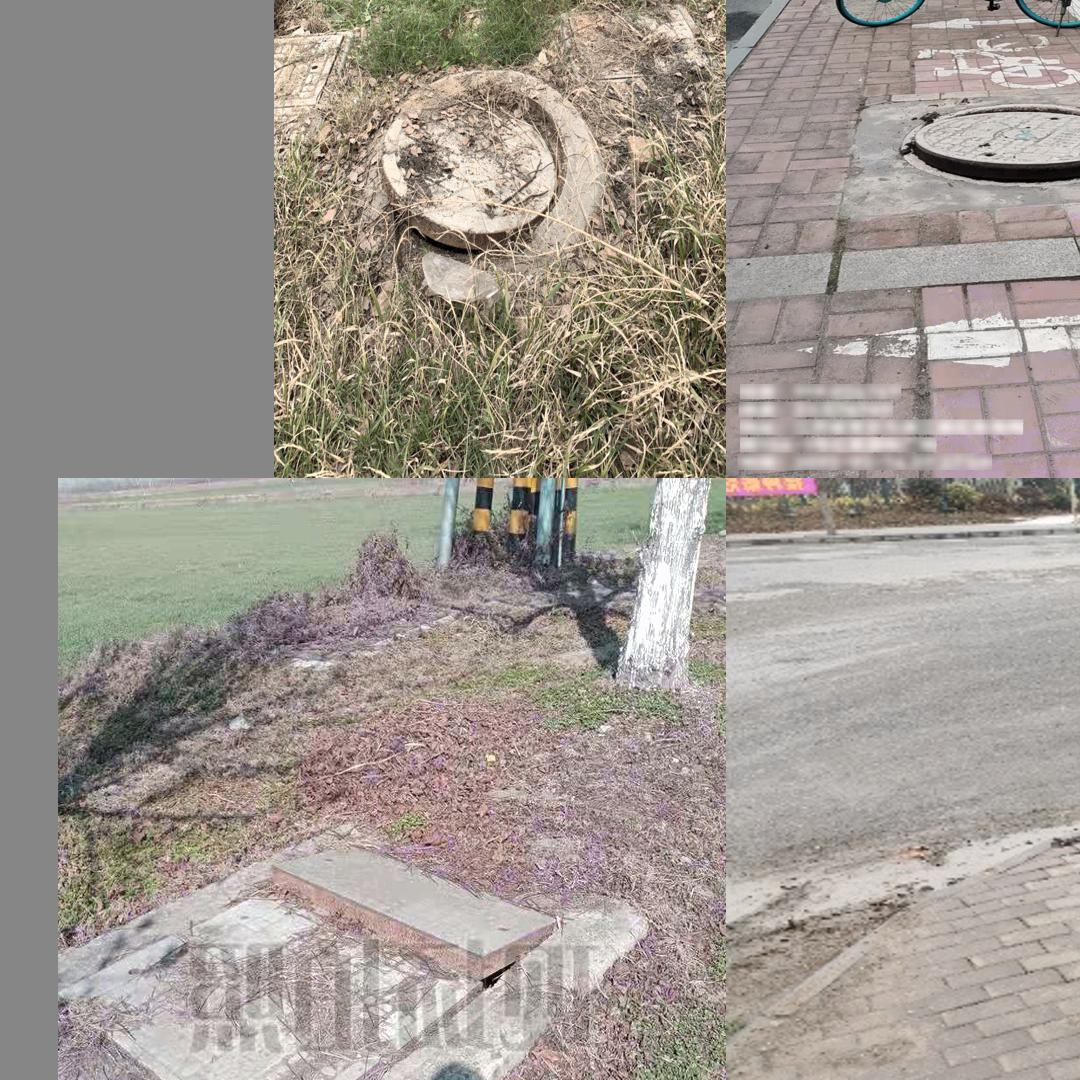uncovered: (78, 823, 563, 1080), (380, 83, 566, 247), (901, 103, 1080, 190)
